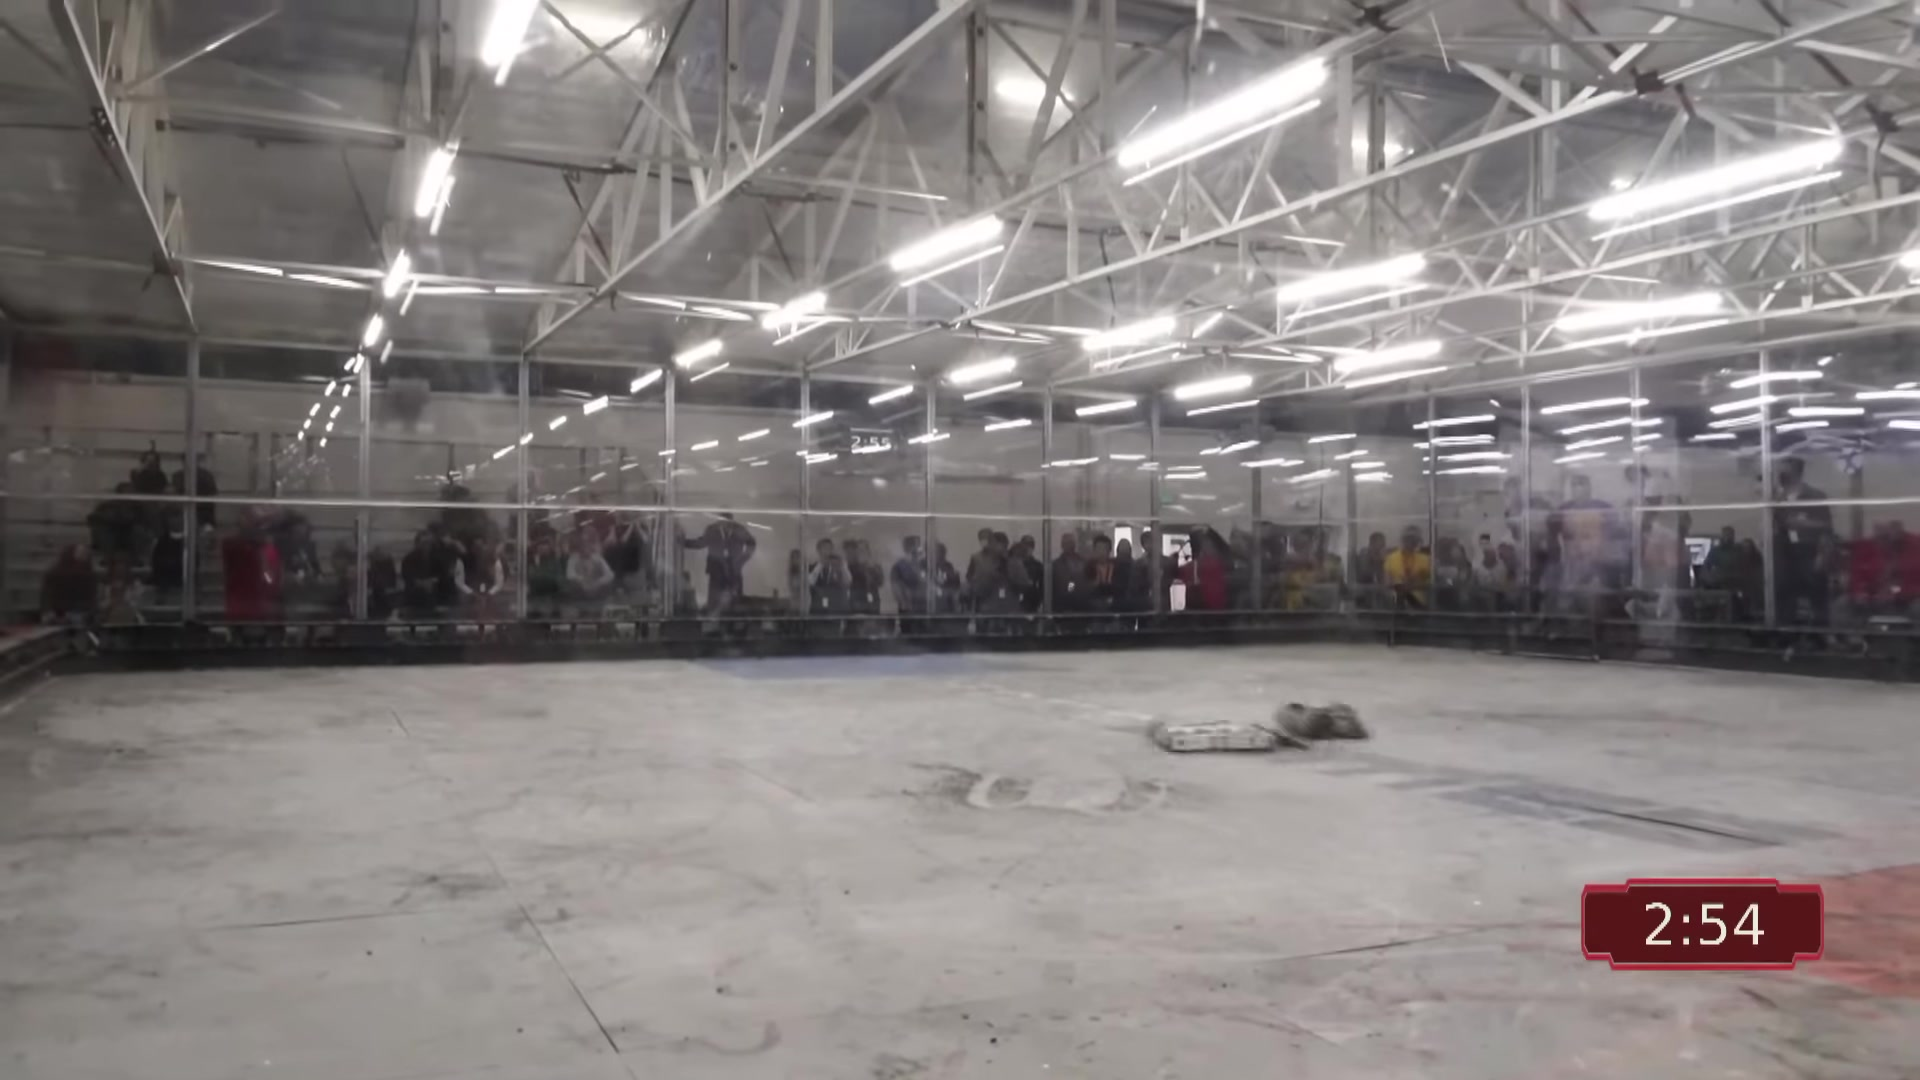combatbot: (1143, 711, 1292, 760), (1278, 699, 1371, 741)
